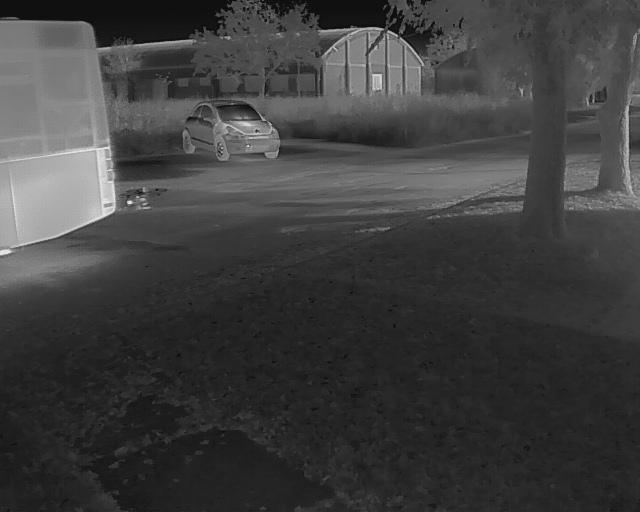drone: (105, 186, 163, 224)
